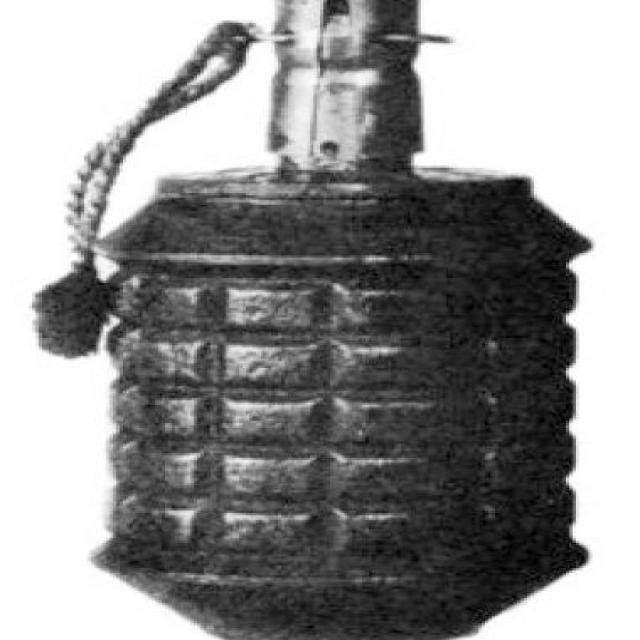grenade: (36, 1, 599, 640)
